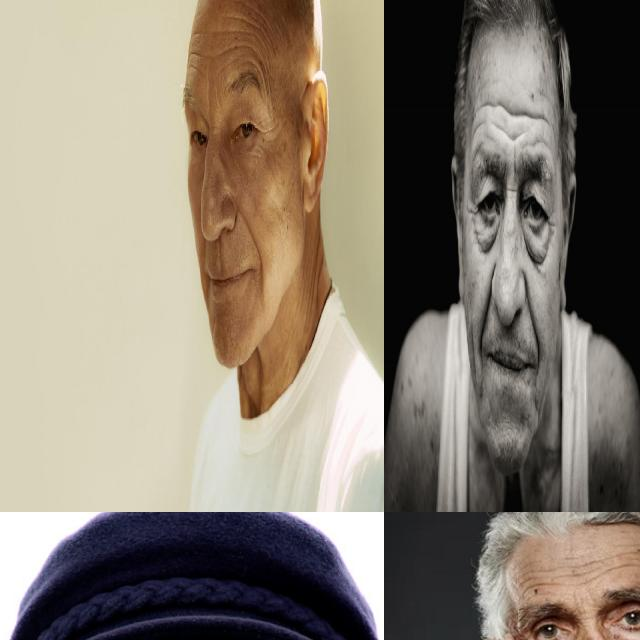crows_feet: (257, 117, 279, 153), (467, 199, 479, 231), (545, 208, 555, 239), (515, 627, 533, 640)
forehead: (226, 11, 260, 60), (602, 546, 640, 575), (501, 95, 526, 124), (565, 564, 595, 586), (261, 69, 274, 116), (188, 38, 202, 81), (520, 574, 554, 590), (529, 104, 549, 129), (532, 130, 550, 154), (478, 94, 497, 115), (504, 127, 523, 147), (470, 118, 485, 139)
frown_line: (204, 77, 212, 116), (506, 178, 518, 197)
gummy_smile: (238, 202, 262, 253), (523, 277, 538, 355), (478, 273, 495, 340)
masseter: (470, 324, 476, 373)
